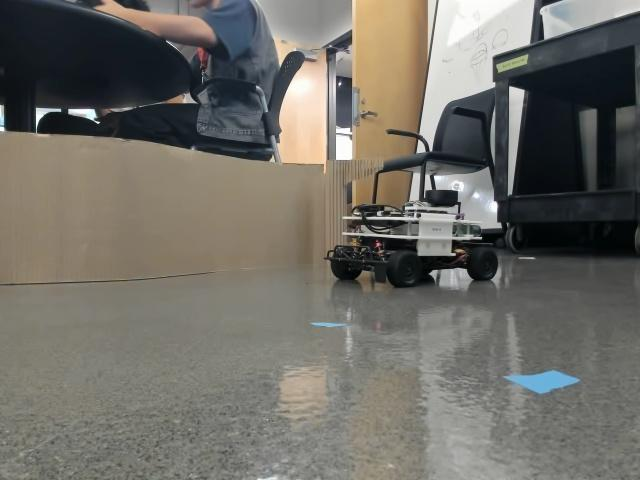Car: (324, 188, 498, 285)
